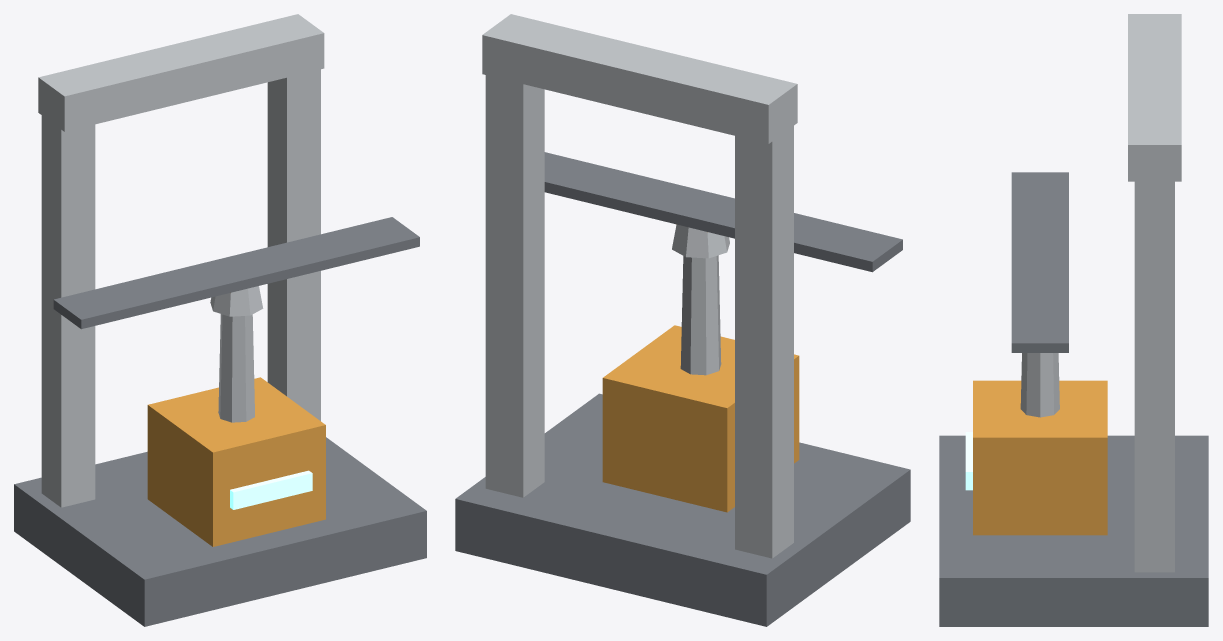
The model's file is motor-test-stand.glb.
3 renders of one model, left to right at view 1: azimuth 30°, elevation 25°; view 2: azimuth 150°, elevation 25°; view 3: azimuth 270°, elevation 25°, orthographic. The views are drawn at different scales.
Visible parts, largest first — view 1: motor-test-stand, rotor-test/graphite, rotor-test/steel; view 2: motor-test-stand, rotor-test/graphite, rotor-test/steel; view 3: motor-test-stand, rotor-test/graphite.
Boxes of the visible parts, x1,y1,x2,y2 form: motor-test-stand: [14, 14, 426, 626]; rotor-test/graphite: [53, 217, 419, 329]; rotor-test/steel: [210, 286, 263, 316]; motor-test-stand: [455, 14, 910, 626]; rotor-test/graphite: [544, 152, 902, 272]; rotor-test/steel: [672, 224, 729, 258]; motor-test-stand: [939, 14, 1208, 626]; rotor-test/graphite: [1011, 172, 1068, 352].
Size of the model in its own units: 0.6 by 0.78 by 0.4.
